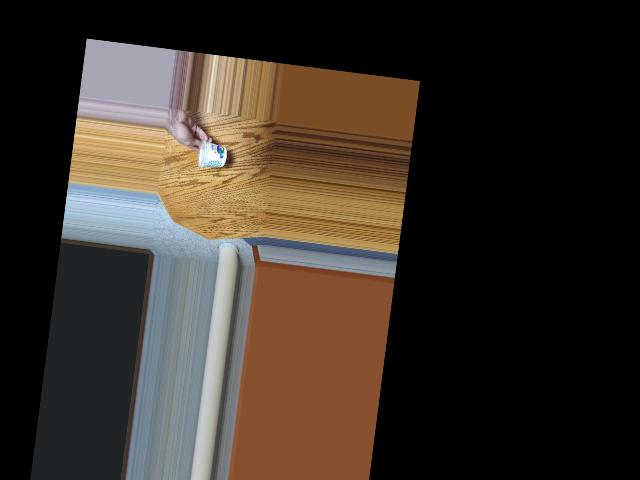cotage: (195, 138, 226, 173)
